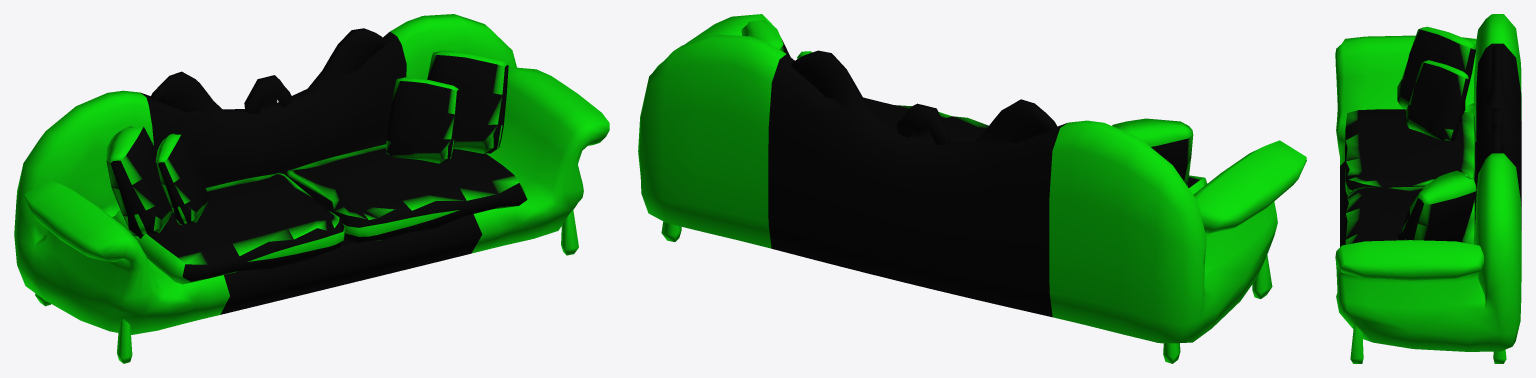
File: Couch2.fbx
The picture shows the model from 3 angles, left to right: view 1: azimuth 30°, elevation 25°; view 2: azimuth 150°, elevation 25°; view 3: azimuth 270°, elevation 25°; orthographic projection. The views are drawn at different scales.
Parts seen in each view (by area): view 1: Couch2; view 2: Couch2; view 3: Couch2.
Boxes of the visible parts, x1,y1,x2,y2 form: Couch2: [14, 14, 609, 363]; Couch2: [638, 14, 1306, 363]; Couch2: [1335, 14, 1521, 363].
Bounding box in the file's own units: 343 × 124 × 118.
